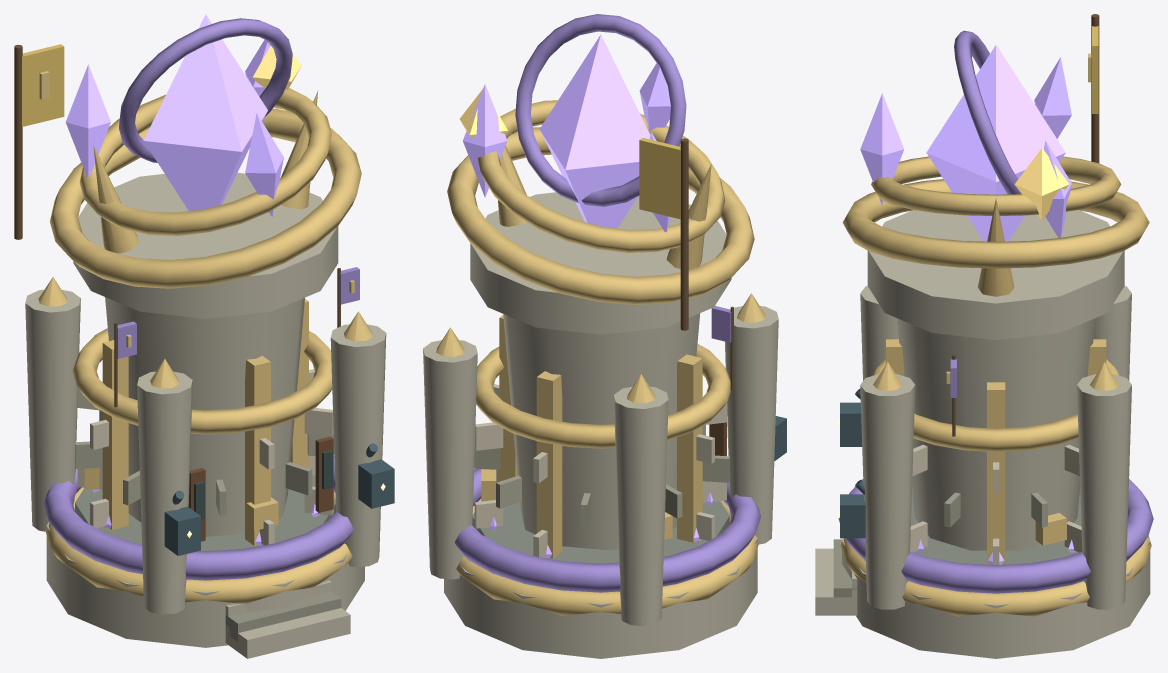
The model's file is tower-arcane-3-1.glb.
3 renders of one model, left to right at view 1: azimuth 30°, elevation 25°; view 2: azimuth 150°, elevation 25°; view 3: azimuth 270°, elevation 25°, orthographic. The views are drawn at different scales.
Parts seen in each view (by area): view 1: Foundation, Turret, arcane-L3-1; view 2: Foundation, Turret, arcane-L3-1; view 3: Foundation, Turret, arcane-L3-1.
Part boxes in pixels (x1,y1,x2,y2): Foundation: (14, 44, 394, 658); Turret: (50, 14, 361, 318); arcane-L3-1: (46, 475, 364, 647); Foundation: (423, 138, 786, 626); Turret: (447, 14, 754, 334); arcane-L3-1: (444, 501, 757, 658); Foundation: (815, 14, 1153, 616); Turret: (842, 30, 1149, 339); arcane-L3-1: (842, 488, 1150, 658).
Size of the model in its own units: 1.72 by 3.33 by 1.84.
